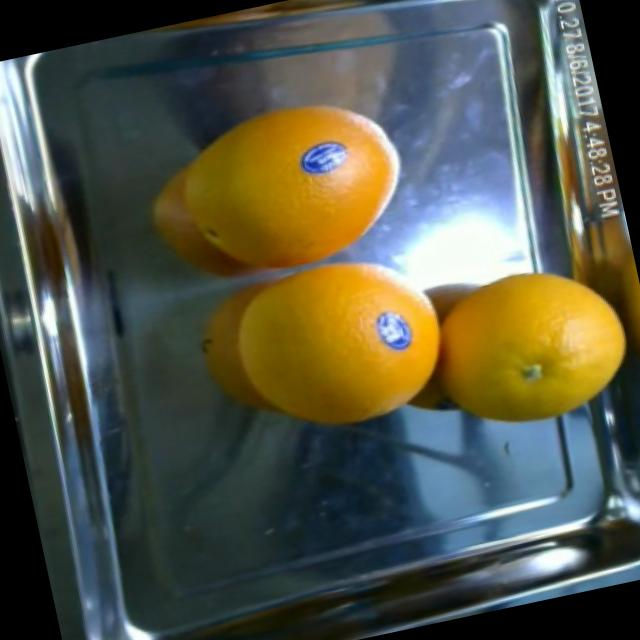Fruit: (120, 96, 344, 310), (288, 131, 361, 187)
